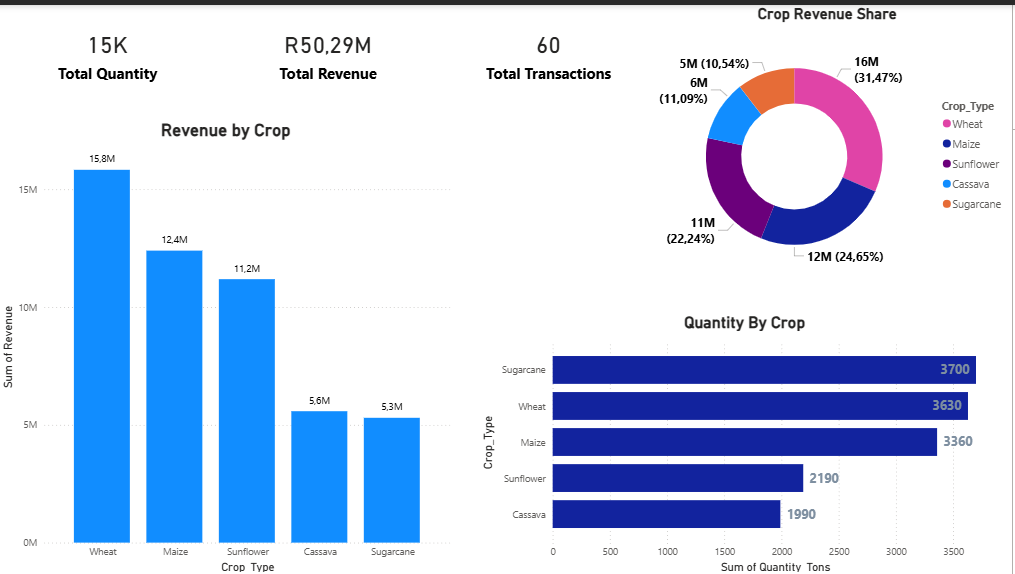

What the dashboard file says about the page in this screenshot:
{"tool":"powerbi","page":{"name":"Crop Performance","canvas":[1280,720],"ordinal":1},"visuals":[{"type":"card","fields":{"Values":["Supply_Transactions.Total Quantity"]},"box":[0,0,277.8,120.9],"z":0},{"type":"card","fields":{"Values":["Supply_Transactions.Total Revenue"]},"box":[277.8,0,277.8,120.9],"z":1},{"type":"card","fields":{"Values":["Supply_Transactions.Total Transactions"]},"box":[555.6,0,277.8,120.9],"z":2},{"type":"clusteredColumnChart","title":"Revenue by Crop","fields":{"Category":["Supply_Transactions.Crop_Type"],"Y":["Sum(Supply_Transactions.Revenue)"]},"box":[0,145.5,576.4,574.5],"z":3},{"type":"barChart","title":"Quantity By Crop","fields":{"Category":["Supply_Transactions.Crop_Type"],"Y":["Sum(Supply_Transactions.Quantity_Tons)"]},"box":[604.7,387.4,674.7,332.6],"z":4},{"type":"donutChart","title":"Crop Revenue Share","fields":{"Category":["Supply_Transactions.Crop_Type"],"Y":["Sum(Supply_Transactions.Revenue)"]},"box":[812.6,0,466.8,359.1],"z":5}]}

Visuals, with their boxes in screenshot pixels (x1, y1, x2, y2), scaled from the page's 1280x720 canvas onto the 1015x574 screenshot:
card - Supply_Transactions.Total Quantity: <bbox>0, 0, 220, 96</bbox>
card - Supply_Transactions.Total Revenue: <bbox>220, 0, 441, 96</bbox>
card - Supply_Transactions.Total Transactions: <bbox>441, 0, 661, 96</bbox>
"Revenue by Crop" clusteredColumnChart: <bbox>0, 116, 457, 573</bbox>
"Quantity By Crop" barChart: <bbox>480, 309, 1014, 573</bbox>
"Crop Revenue Share" donutChart: <bbox>644, 0, 1014, 286</bbox>
